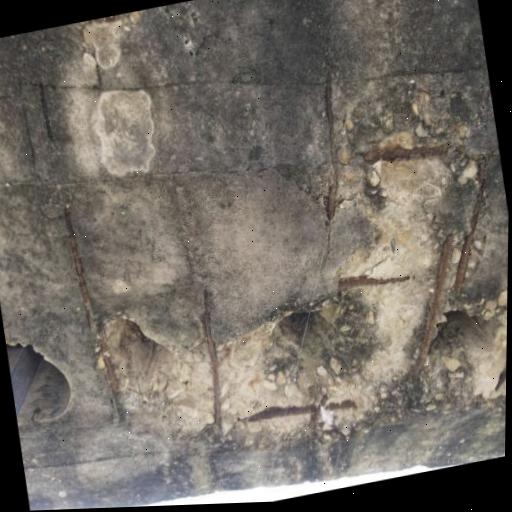exposed_rebar: (411, 235, 453, 378), (454, 158, 486, 292), (64, 207, 91, 327), (203, 290, 222, 424), (325, 72, 337, 224), (364, 144, 448, 162), (100, 323, 119, 396), (243, 405, 319, 422), (337, 275, 408, 291), (40, 83, 52, 140), (309, 394, 328, 429), (324, 398, 356, 411), (495, 366, 506, 389)
